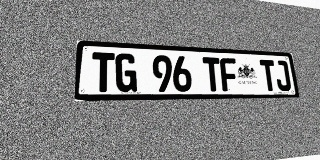6: (172, 56, 192, 92)
9: (152, 55, 173, 92)
F: (219, 58, 239, 91)
G: (115, 53, 137, 92)
J: (274, 60, 292, 91)
T: (92, 52, 115, 92), (202, 57, 222, 91), (259, 60, 278, 91)
